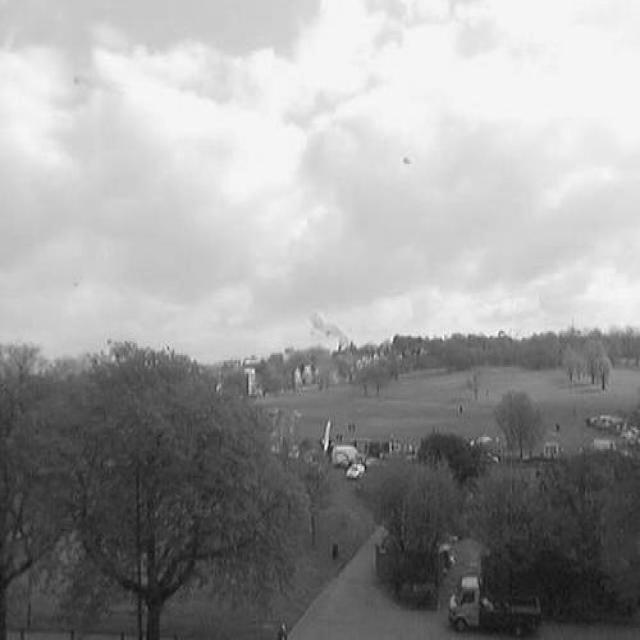vehicle: (448, 577, 541, 638), (333, 447, 365, 469), (584, 415, 626, 431), (346, 463, 366, 481), (287, 444, 304, 460)
